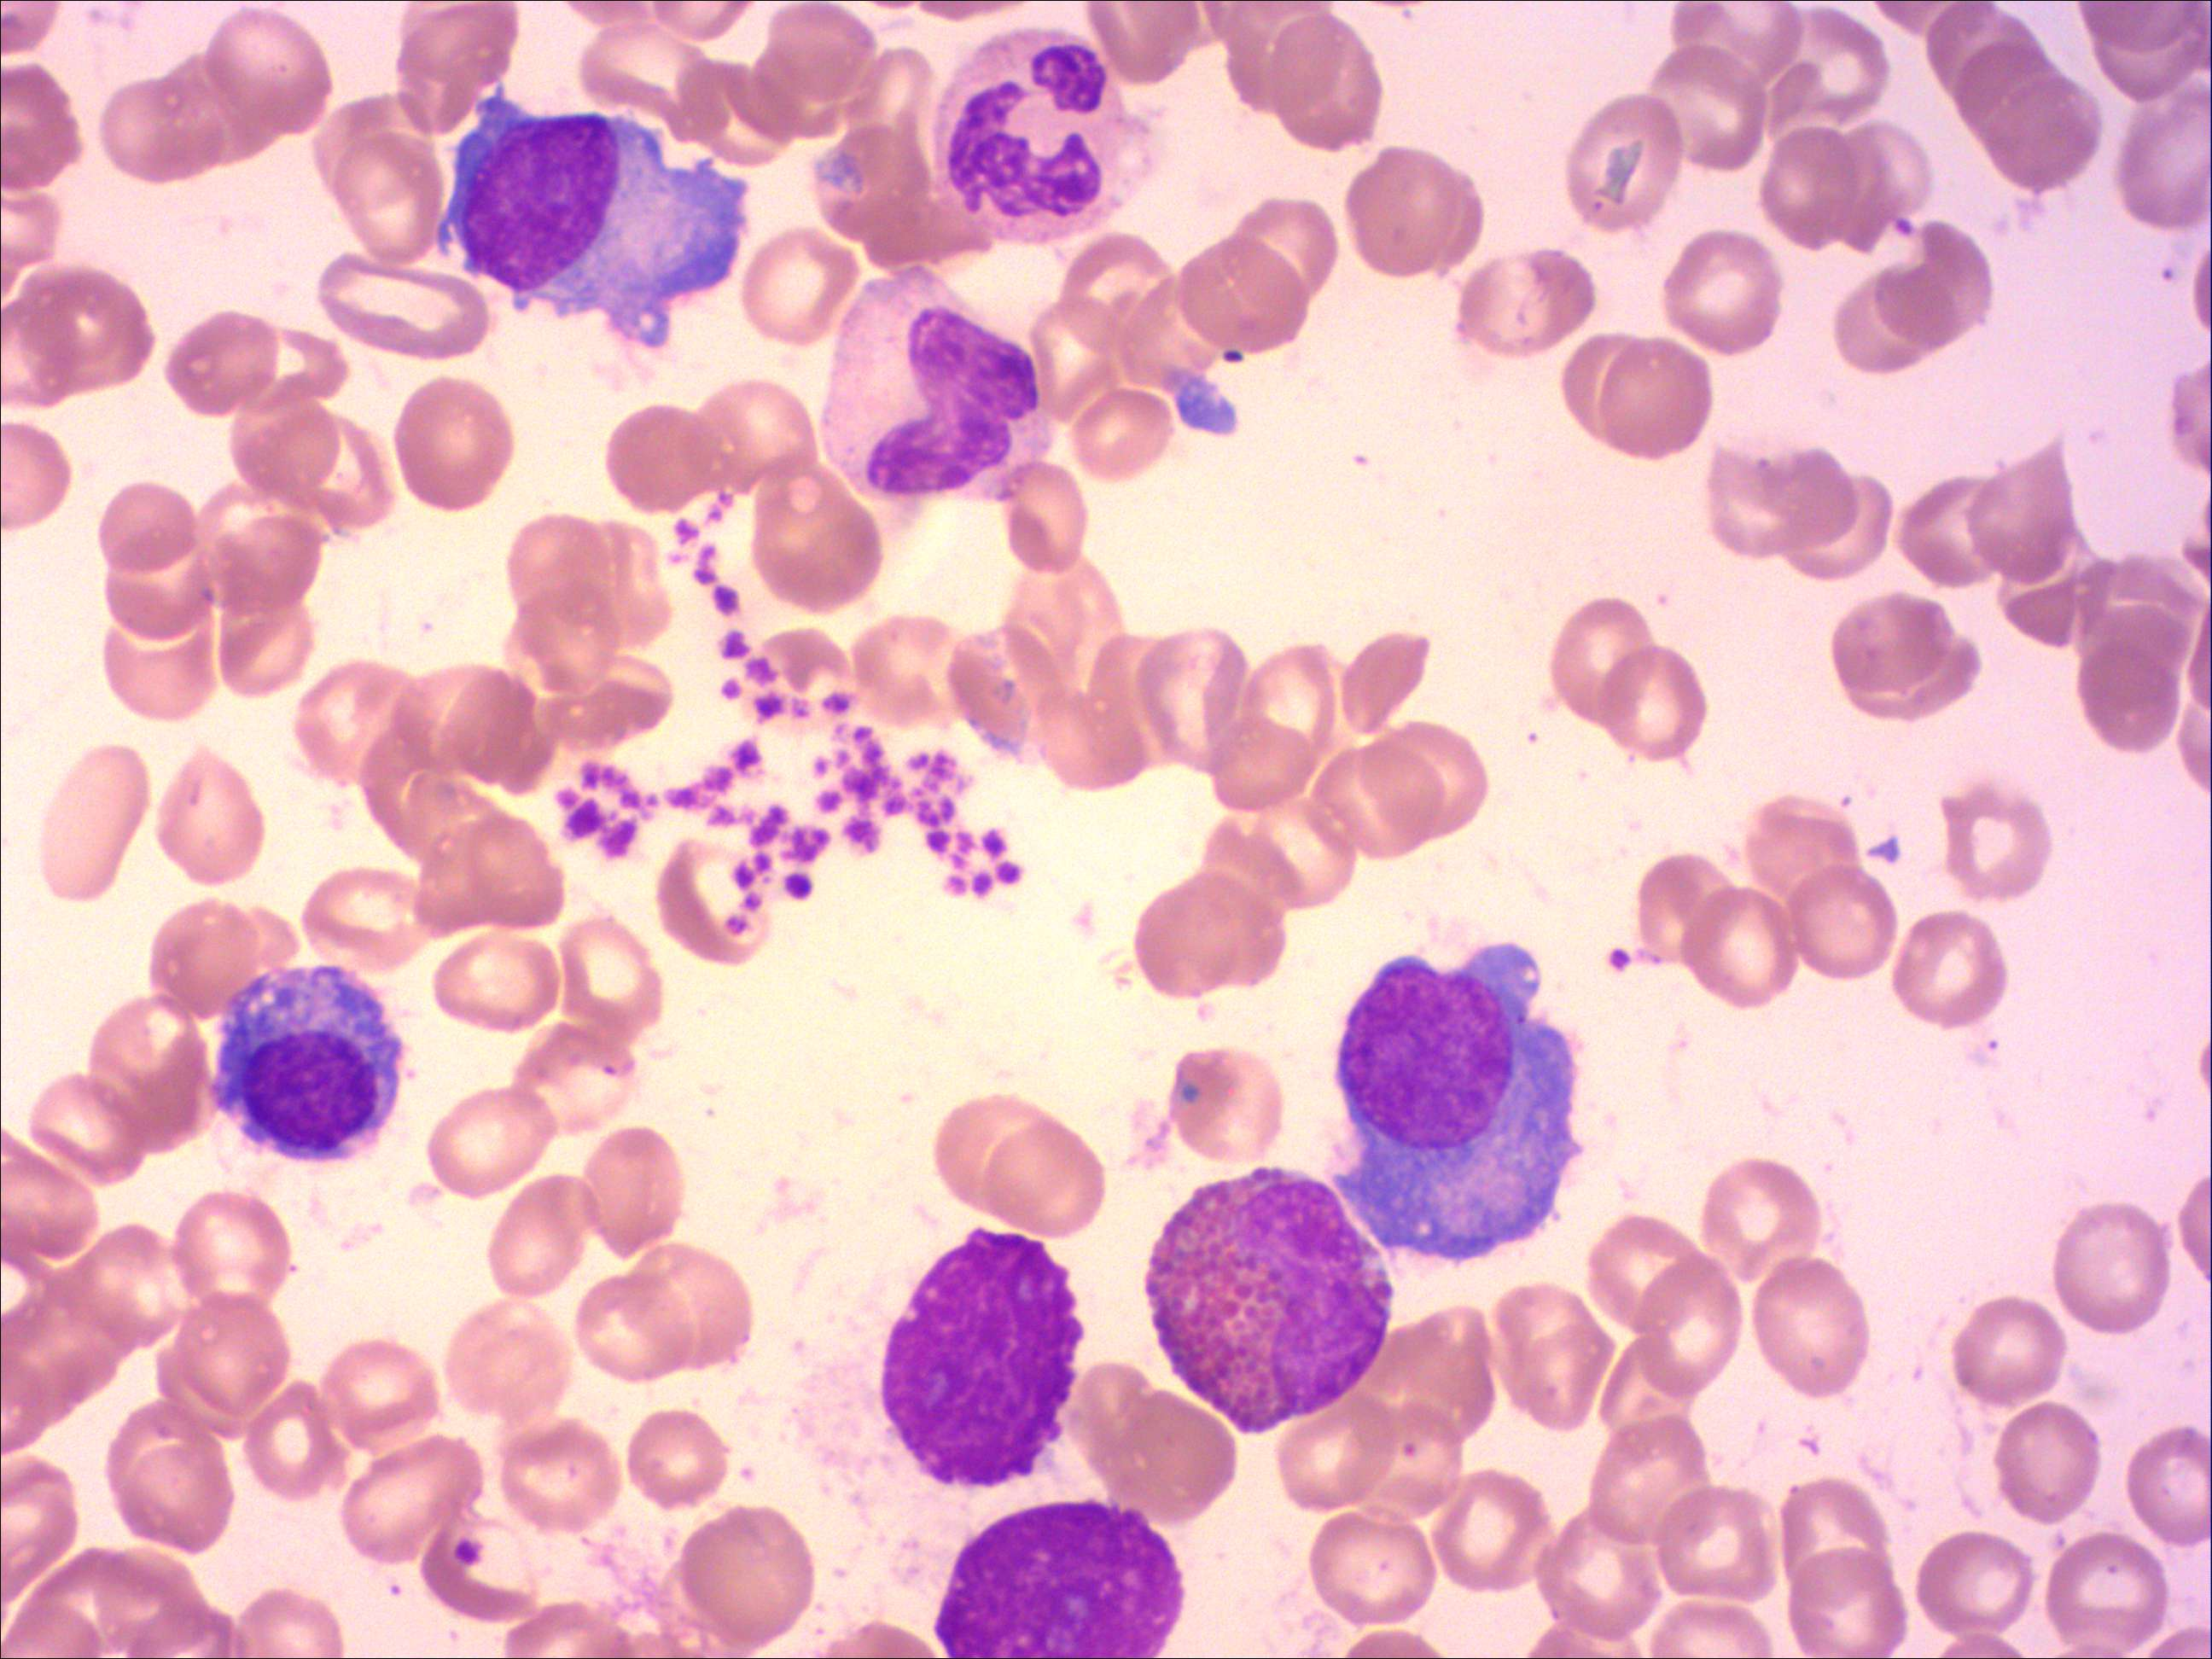5: (810, 258, 1061, 519)
51: (434, 77, 756, 355), (1324, 936, 1590, 1269), (204, 958, 409, 1164)
6: (923, 21, 1157, 249)
E4: (1139, 1159, 1399, 1441)
x: (876, 1222, 1090, 1493), (927, 1495, 1191, 1659)
